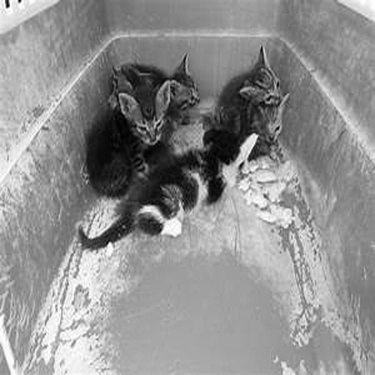cat: (77, 128, 257, 250), (74, 79, 176, 198), (203, 44, 285, 136), (110, 48, 202, 124), (226, 98, 288, 165)
